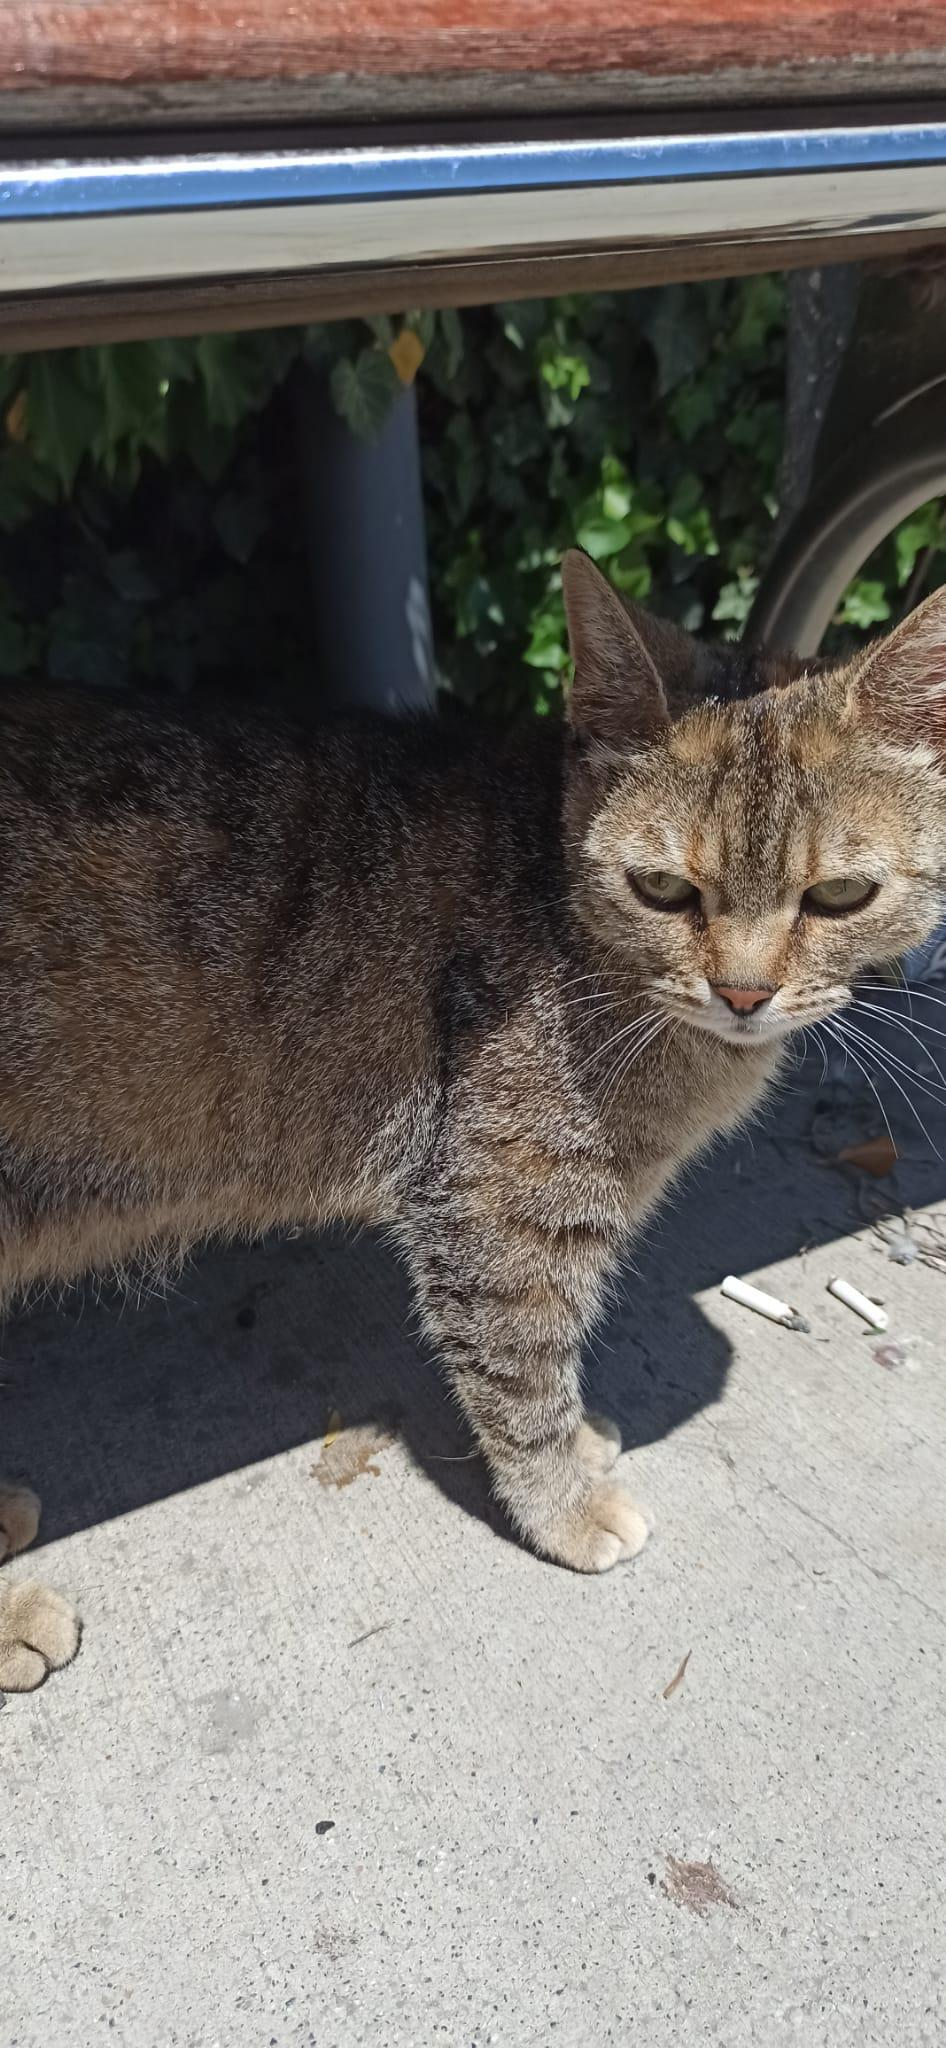kedo: (0, 538, 946, 1567)
